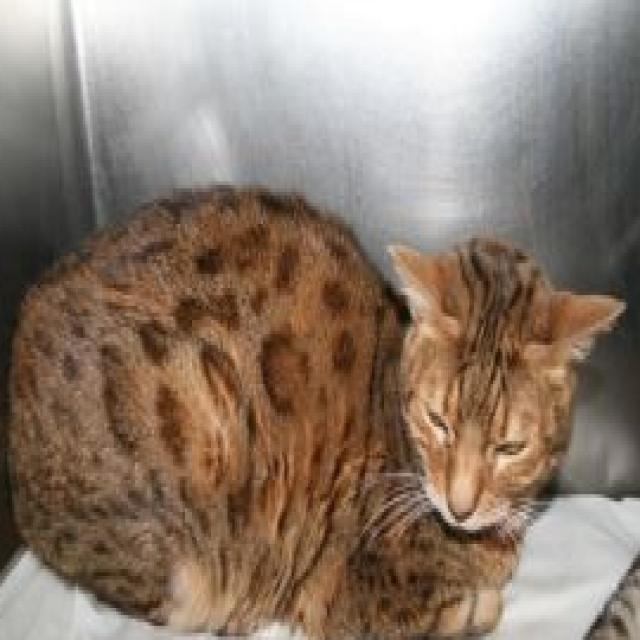Bengal: (2, 174, 628, 640)
